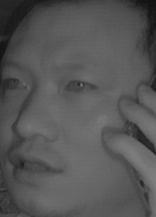eye: (62, 75, 99, 99), (1, 72, 31, 93)
mouth: (8, 147, 63, 184)
